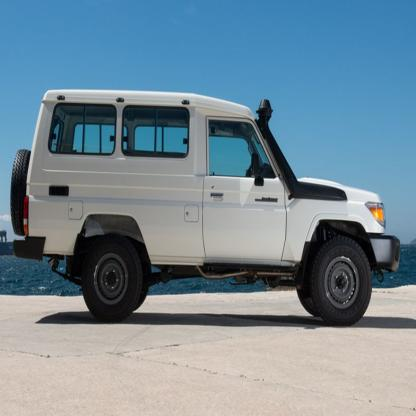light_vehicle: (10, 75, 406, 335)
